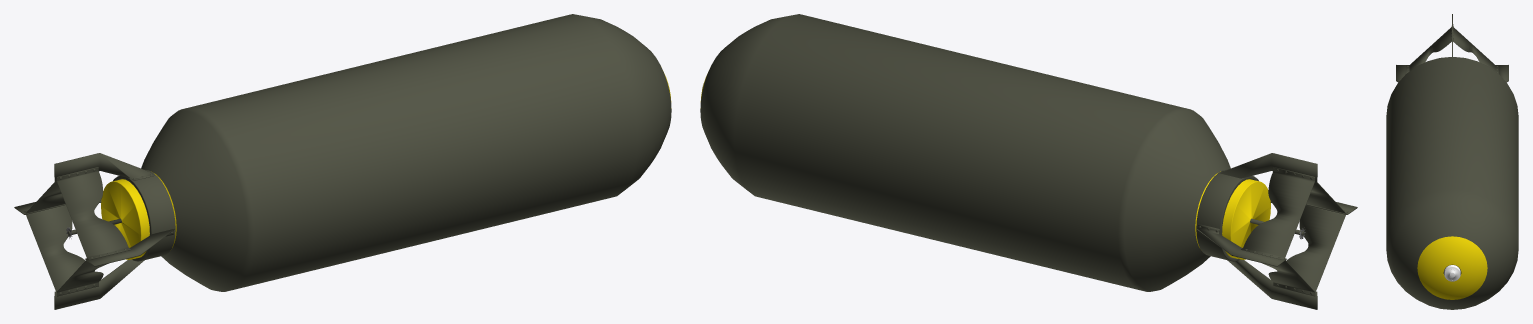
The model's file is nuke_model.glb.
The picture shows the model from 3 angles, left to right: view 1: azimuth 30°, elevation 25°; view 2: azimuth 150°, elevation 25°; view 3: azimuth 270°, elevation 25°; orthographic projection. The views are drawn at different scales.
Parts seen in each view (by area): view 1: bomb; view 2: bomb; view 3: bomb.
Boxes of the visible parts, x1=… form: bomb: x1=14, y1=14, x2=671, y2=309; bomb: x1=700, y1=14, x2=1357, y2=309; bomb: x1=1386, y1=14, x2=1518, y2=309.
Bounding box in the file's own units: 7.5 × 2 × 2.
